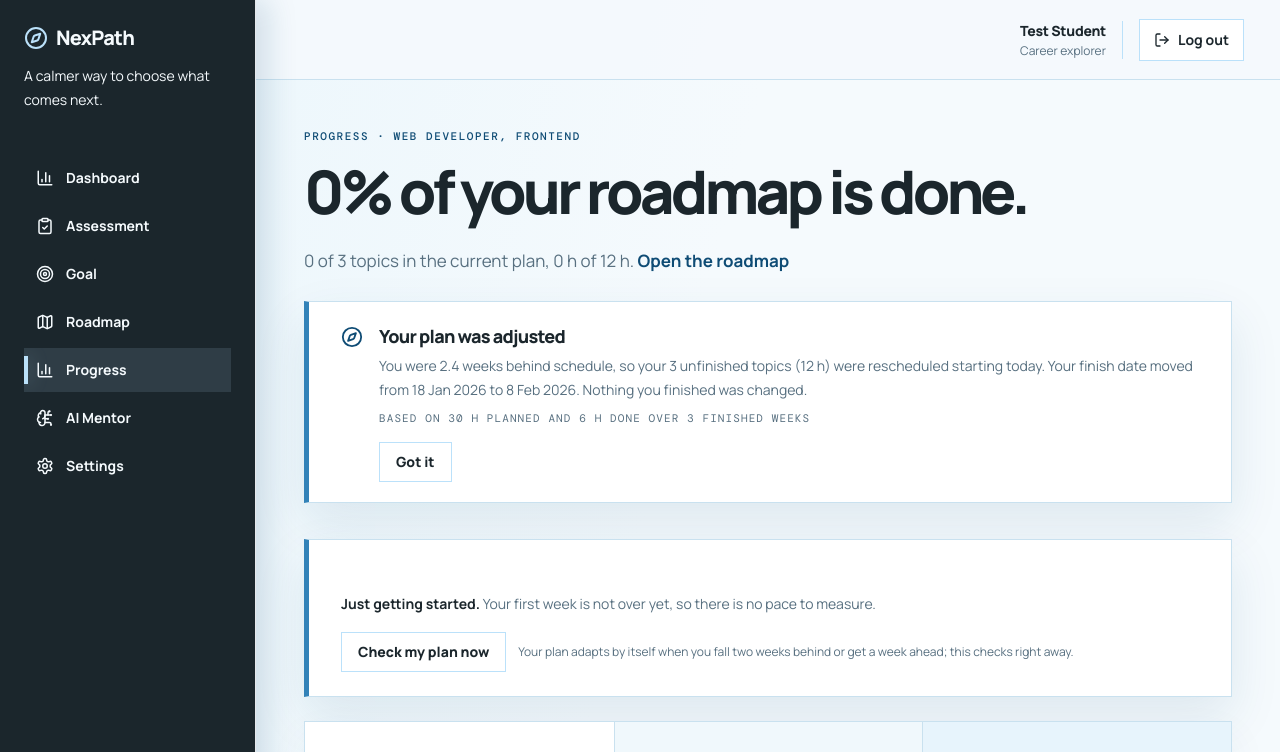
it: progress page and replanning › marks the explanation as read and refreshes without blanking the page
Click the button "Got it" at (415, 462), box x1=379 y1=442 x2=452 y2=482
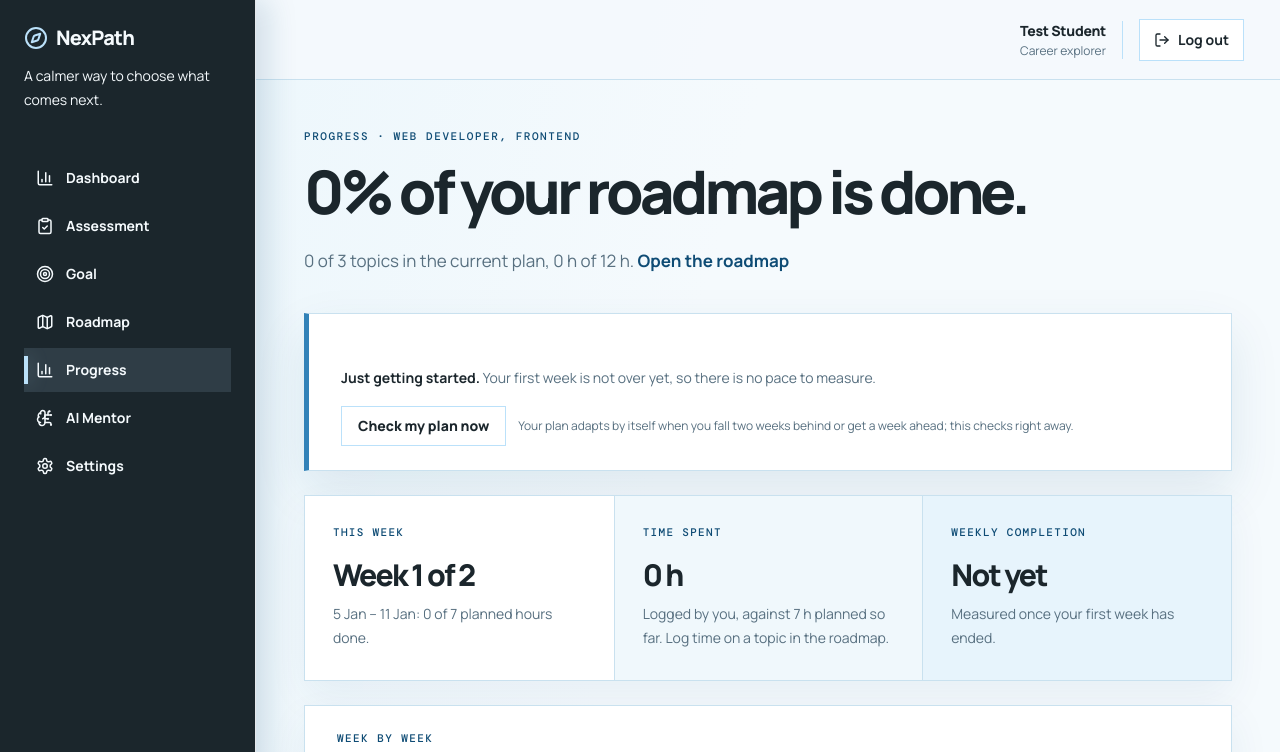
Check: the heading "0% of your roadmap is done." is shown, box x1=304 y1=160 x2=1072 y2=220
Check: the heading "Your plan was adjusted" is gone
